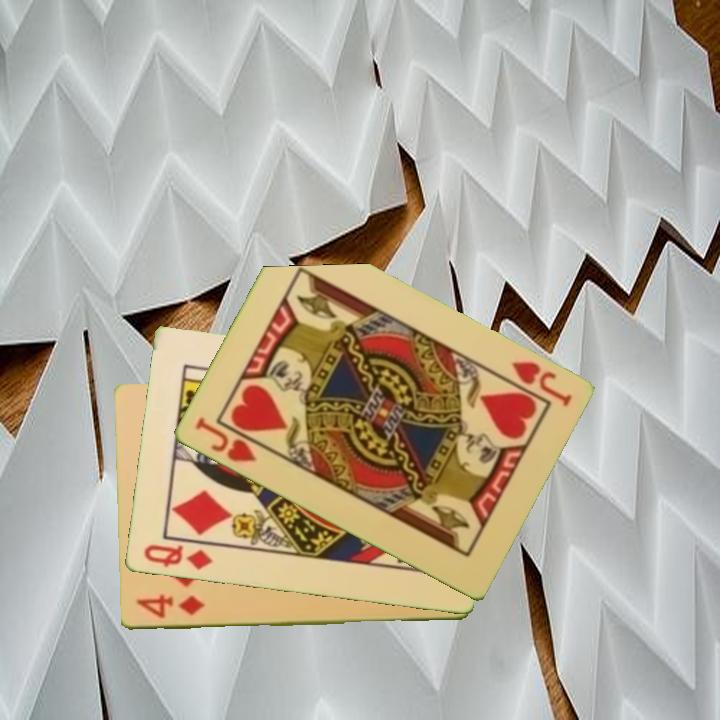4d: (132, 591, 208, 622)
Jh: (190, 413, 270, 465), (507, 358, 574, 410)
Qd: (140, 541, 215, 573)
